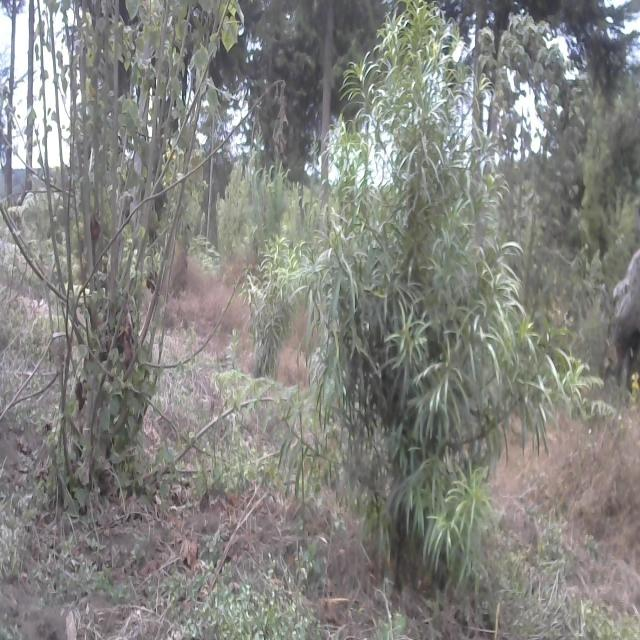Croton machrostychus: (0, 0, 245, 484), (480, 2, 598, 330)
Podocarpus falcatus: (292, 5, 558, 594)
